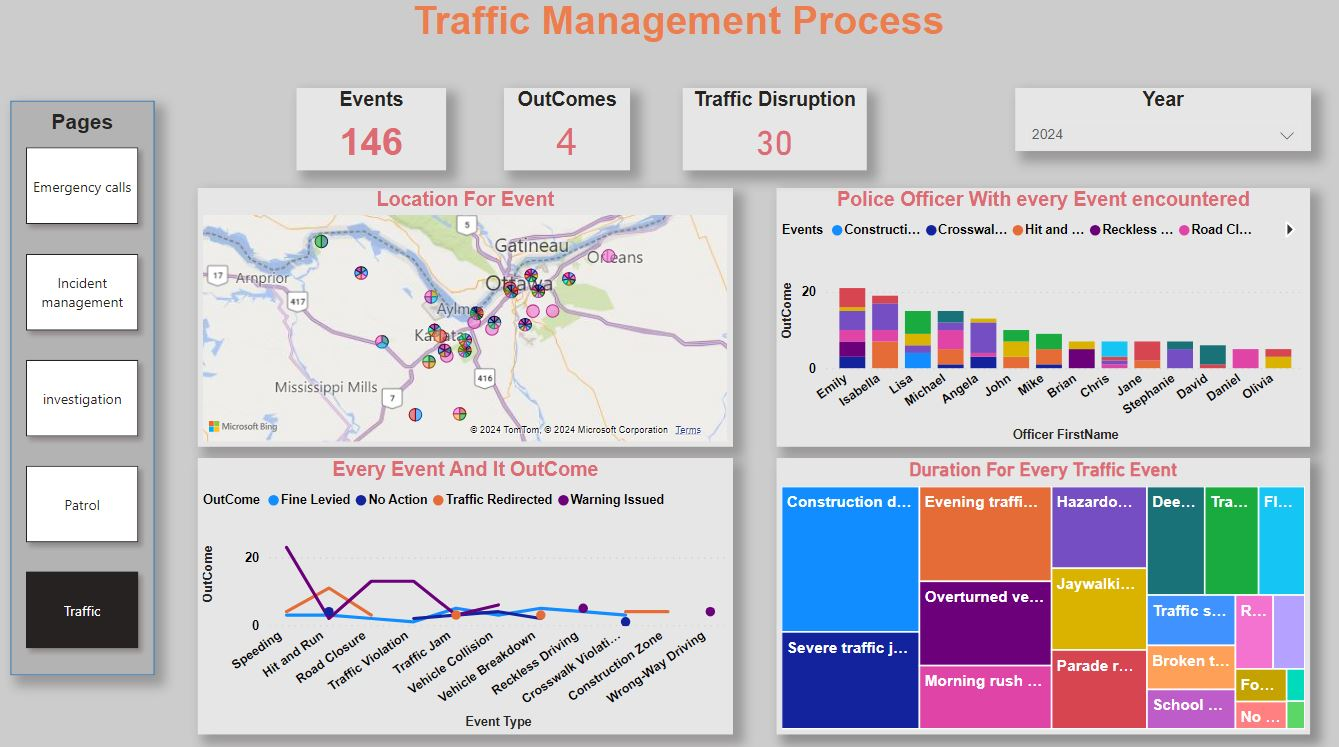

What the dashboard file says about the page in this screenshot:
{"tool":"powerbi","page":{"name":"Traffic","canvas":[1280,720],"ordinal":1},"visuals":[{"type":"columnChart","title":"Police Officer With every Event encountered","fields":{"Category":["DIM_OFFICER_DATA_TABLE.FIRST_NAME"],"Y":["FACT_TRAFFIC_EVENTS_DATA_TABLE.OUTCOME_ID"],"Series":["DIM_EVENT_TYPE_DATA_TABLE.EVENT_TYPE"]},"box":[740.2,185.7,508.2,246.3],"z":0},{"type":"map","title":"Location For Event","fields":{"Y":["DIM_LOCATION_DATA_TABLE.Latitude"],"X":["DIM_LOCATION_DATA_TABLE.Longitude"],"Series":["DIM_DATE_DATA_TABLE.DATE_RECORDED.Variation.Date Hierarchy.Year"]},"box":[189.2,185.7,509.4,246.3],"z":1000},{"type":"lineChart","title":"Every Event And It OutCome","fields":{"Category":["DIM_EVENT_TYPE_DATA_TABLE.EVENT_TYPE"],"Y":["FACT_TRAFFIC_EVENTS_DATA_TABLE.OUTCOME_ID"],"Series":["DIM_OUTCOME_DATA_TABLE.OUTCOME"]},"box":[189.2,442.7,509.4,263],"z":2000},{"type":"treemap","title":"Duration For Every Traffic Event","fields":{"Group":["FACT_TRAFFIC_EVENTS_DATA_TABLE.DESCRIPTION","DIM_DATE_DATA_TABLE.DATE_RECORDED.Variation.Date Hierarchy.Month","DIM_DATE_DATA_TABLE.YEAR"],"Values":["FACT_TRAFFIC_EVENTS_DATA_TABLE.DURATION"]},"box":[740.2,442.7,508.2,263],"z":3000},{"type":"slicer","title":"Year","fields":{"Values":["DIM_DATE_DATA_TABLE.YEAR"]},"box":[967.5,90,281.2,60],"z":4000},{"type":"textbox","box":[388.8,0,525,67.5],"z":5000},{"type":"shape","box":[11.2,102.5,137.5,547.5],"z":6000},{"type":"pageNavigator","title":"Pages","box":[16.2,111.2,125,525],"z":7000},{"type":"card","title":"OutComes","fields":{"Values":["DIM_OUTCOME_DATA_TABLE.OUTCOME"]},"box":[481.2,90,120,78.8],"z":8000},{"type":"card","title":"Traffic Disruption","fields":{"Values":["DIM_EVENT_TYPE_DATA_TABLE.EVENT_TYPE"]},"box":[651.2,90,175,78.8],"z":9000},{"type":"card","title":"Events","fields":{"Values":["FACT_TRAFFIC_EVENTS_DATA_TABLE.EVENT_TYPE_ID"]},"box":[283.8,90,142.5,78.8],"z":10000}]}

Visuals, with their boxes in screenshot pixels (x1, y1, x2, y2), scaled from the page's 1280x720 canvas onto the 1339x747 screenshot:
"Police Officer With every Event encountered" columnChart: region(774, 193, 1306, 448)
"Location For Event" map: region(198, 193, 731, 448)
"Every Event And It OutCome" lineChart: region(198, 459, 731, 732)
"Duration For Every Traffic Event" treemap: region(774, 459, 1306, 732)
"Year" slicer: region(1012, 93, 1306, 156)
textbox: region(407, 0, 956, 70)
shape: region(12, 106, 156, 674)
"Pages" pageNavigator: region(17, 115, 148, 660)
"OutComes" card: region(503, 93, 629, 175)
"Traffic Disruption" card: region(681, 93, 864, 175)
"Events" card: region(297, 93, 446, 175)
